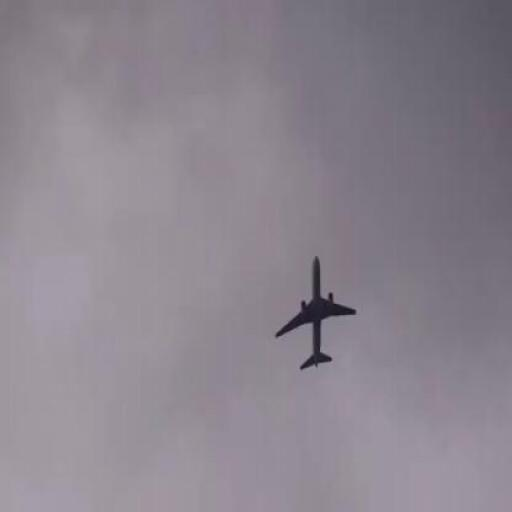aircraft: (273, 254, 357, 369)
